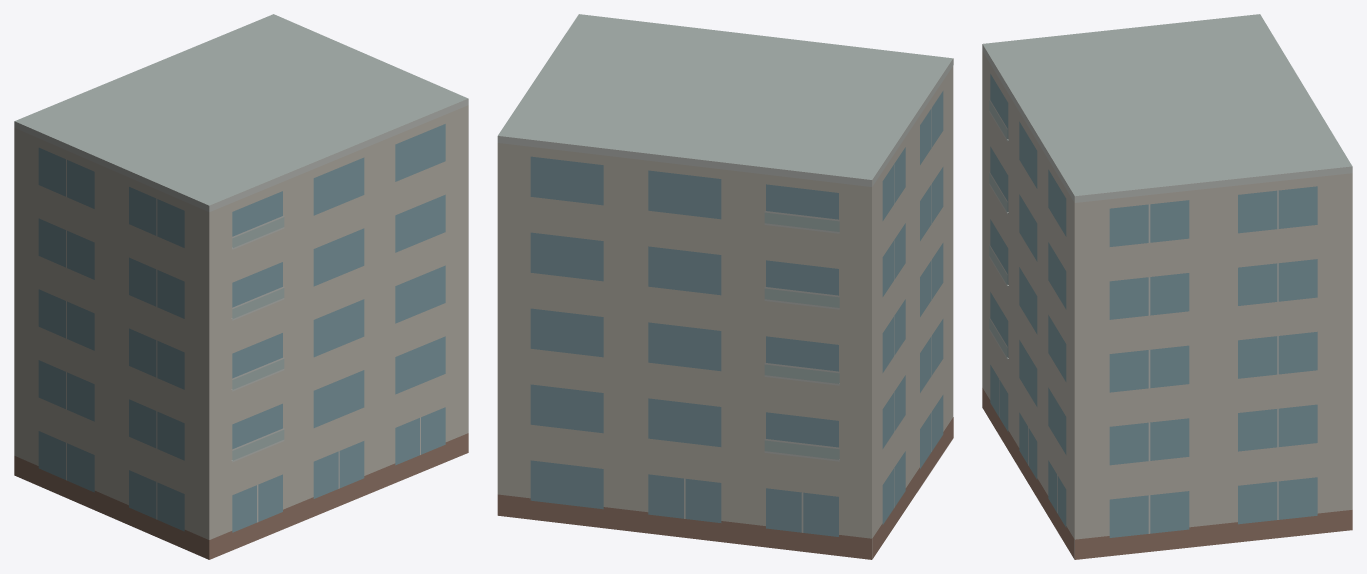
Rendered from survey-upis-33013233.glb.
The picture shows the model from 3 angles, left to right: view 1: azimuth 30°, elevation 25°; view 2: azimuth 150°, elevation 25°; view 3: azimuth 270°, elevation 25°; orthographic projection. The views are drawn at different scales.
Visible parts, largest first — view 1: survey-upis-33013233.tmp; view 2: survey-upis-33013233.tmp; view 3: survey-upis-33013233.tmp.
Part boxes in pixels (left/top/right/bottom): survey-upis-33013233.tmp: left=14, top=14, right=468, bottom=559; survey-upis-33013233.tmp: left=497, top=14, right=953, bottom=559; survey-upis-33013233.tmp: left=982, top=14, right=1352, bottom=559.
Bounding box in the file's own units: 14.09 × 13.1 × 12.1.
